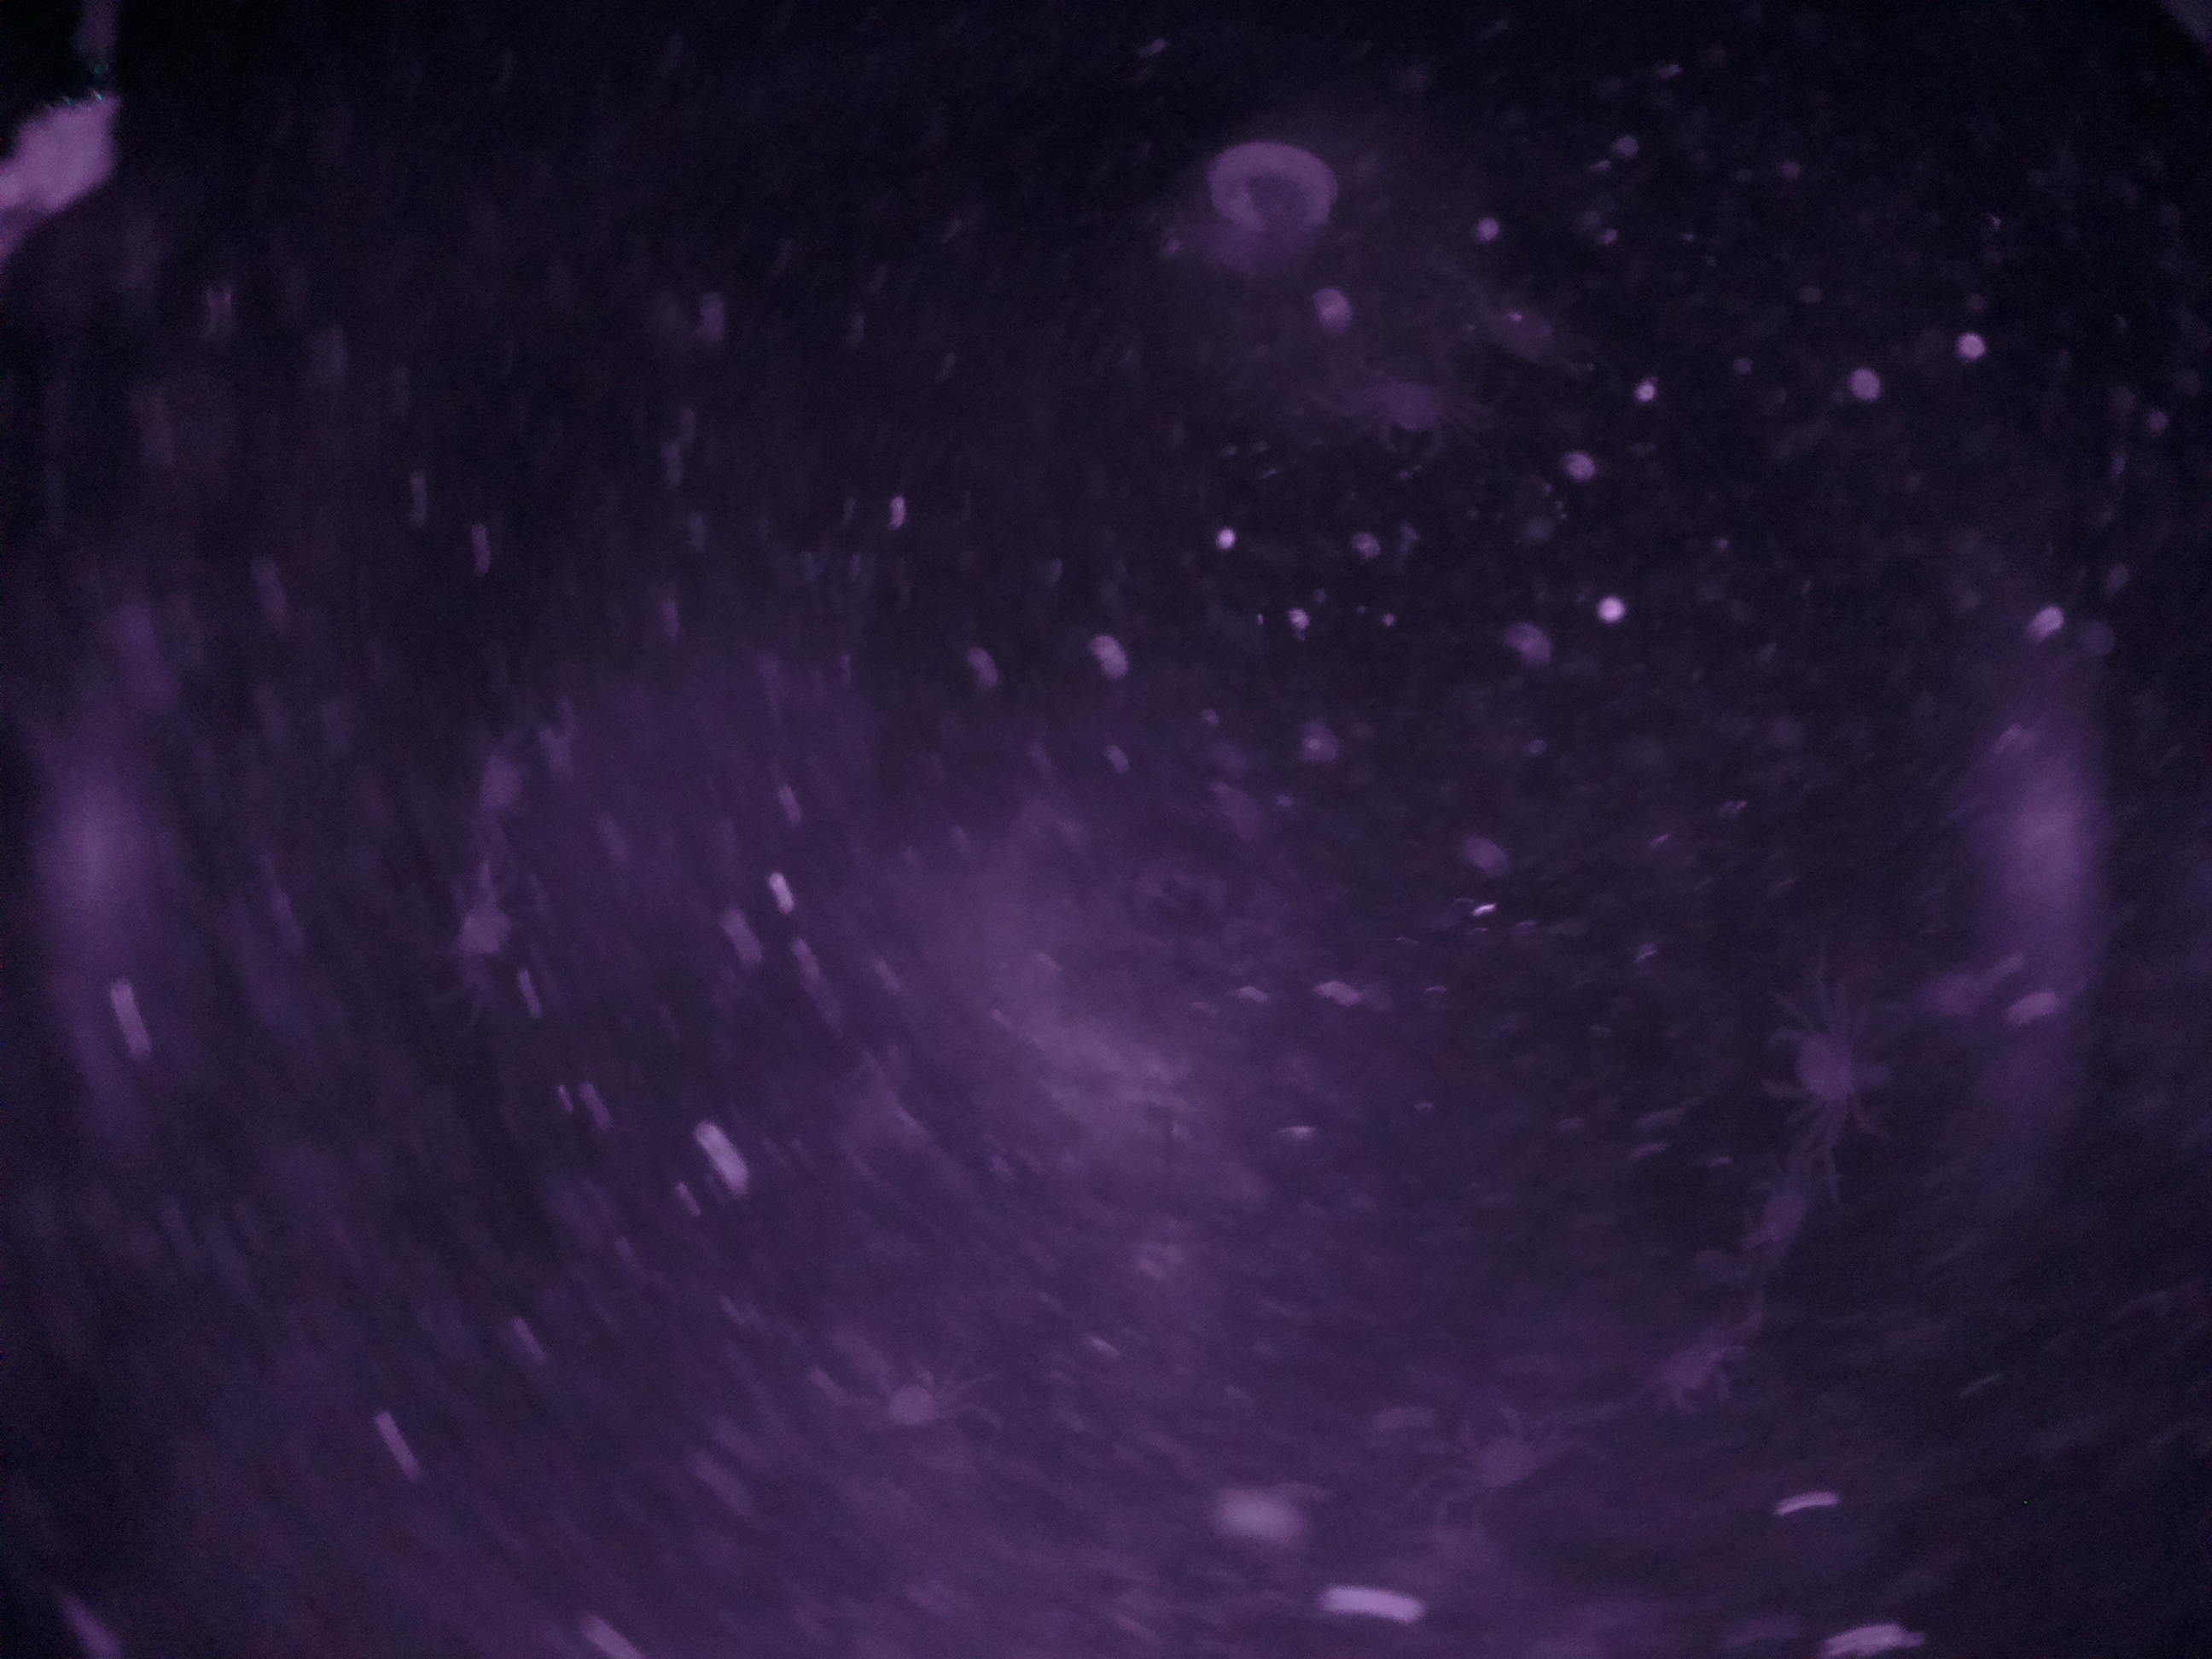Crab: (1747, 986, 1909, 1134)
